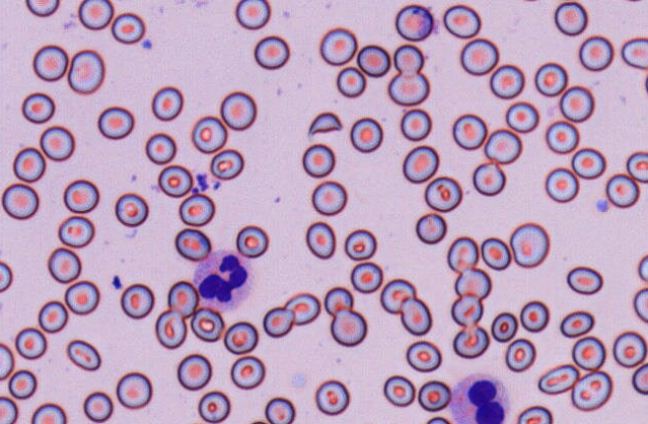GRAN: (194, 250, 251, 313), (451, 375, 514, 424)
PLT: (597, 198, 611, 213), (194, 173, 207, 186), (141, 38, 153, 50)
RBC: (509, 222, 549, 268), (67, 49, 105, 94), (571, 370, 612, 411), (387, 71, 429, 106), (319, 27, 357, 65), (459, 38, 498, 75), (220, 90, 256, 130), (330, 308, 367, 346), (115, 371, 152, 409), (1, 182, 39, 219), (395, 4, 433, 41), (424, 175, 462, 212), (402, 145, 439, 183), (191, 115, 227, 153), (484, 128, 522, 164), (537, 363, 579, 395), (176, 353, 212, 390), (32, 44, 68, 81), (154, 309, 187, 349), (380, 278, 416, 314), (314, 379, 350, 415), (559, 85, 594, 122), (452, 113, 487, 150), (443, 4, 481, 38), (311, 180, 347, 215), (39, 125, 74, 161), (578, 35, 613, 71), (612, 331, 646, 368), (174, 227, 211, 261), (97, 105, 134, 139), (399, 297, 432, 335), (64, 280, 99, 315), (489, 64, 524, 99), (544, 167, 579, 202), (47, 247, 81, 283), (120, 283, 154, 319), (253, 35, 289, 69), (63, 179, 99, 213), (452, 325, 489, 358), (57, 215, 94, 248), (178, 193, 215, 226), (190, 307, 224, 342), (230, 355, 265, 389), (571, 335, 605, 370), (605, 173, 639, 208), (114, 192, 148, 227), (284, 292, 320, 325), (12, 146, 45, 182), (349, 116, 382, 152), (454, 267, 491, 299), (167, 280, 199, 317), (305, 221, 336, 259), (223, 321, 258, 354), (472, 161, 505, 196), (157, 164, 192, 197), (446, 236, 478, 272), (405, 340, 441, 372), (151, 85, 183, 121), (302, 143, 335, 177), (554, 1, 587, 35), (356, 44, 390, 77), (545, 120, 579, 153), (534, 62, 567, 96), (235, 224, 268, 258), (66, 339, 101, 371), (566, 265, 603, 295), (197, 390, 230, 423), (111, 12, 145, 44), (210, 148, 244, 180), (571, 147, 605, 179), (450, 294, 483, 326), (383, 374, 415, 407), (350, 261, 383, 293), (505, 338, 536, 372), (417, 380, 451, 411), (480, 236, 511, 270), (505, 101, 539, 132), (78, 0, 113, 30), (14, 327, 46, 359), (344, 228, 376, 260), (400, 108, 431, 141), (21, 92, 54, 123), (235, 0, 270, 29), (262, 306, 294, 337), (415, 212, 446, 244), (145, 132, 176, 164), (38, 300, 68, 333), (559, 310, 594, 338), (393, 43, 424, 74), (519, 300, 549, 332), (83, 391, 113, 422), (336, 66, 366, 97), (323, 286, 353, 316), (8, 369, 37, 399), (490, 311, 517, 342), (264, 396, 295, 423), (621, 37, 647, 69), (31, 402, 66, 423), (626, 151, 647, 182), (517, 405, 552, 423), (25, 0, 59, 16), (0, 342, 14, 380), (631, 362, 647, 395), (0, 395, 18, 423), (633, 287, 647, 322), (0, 260, 12, 292), (637, 254, 647, 281), (425, 416, 450, 423), (248, 419, 269, 424), (644, 72, 648, 94)
Schistocyte: (309, 113, 341, 138)
